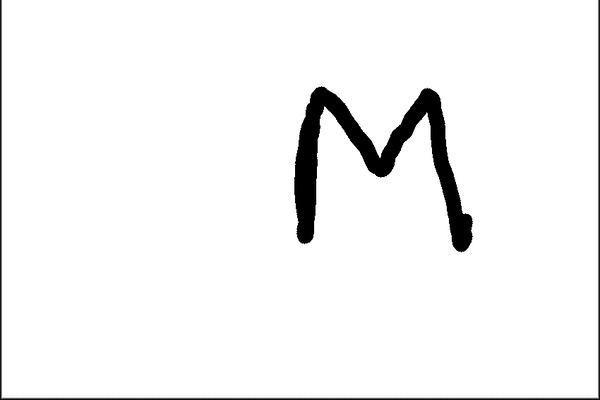M: (295, 77, 473, 252)
